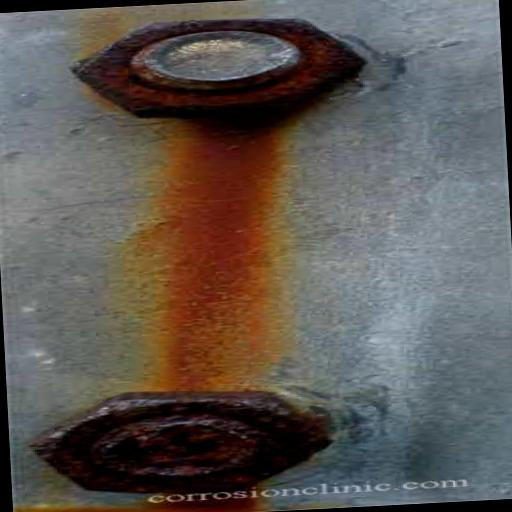segmentation: (25, 388, 332, 512), (171, 118, 300, 385), (75, 18, 361, 115)
